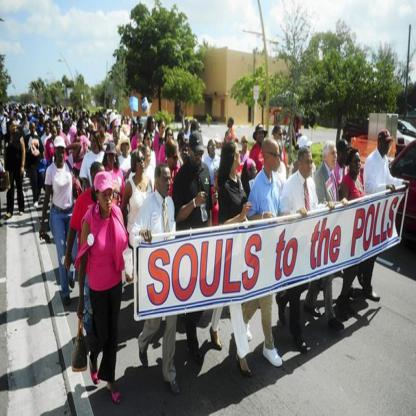face: (160, 168, 172, 196), (271, 144, 281, 172), (102, 190, 114, 211), (304, 153, 314, 174), (234, 143, 242, 168), (193, 146, 203, 165), (172, 146, 180, 169), (330, 145, 338, 167), (354, 150, 361, 174), (138, 153, 146, 173), (252, 164, 259, 182), (209, 143, 216, 157), (92, 133, 98, 149), (57, 147, 64, 160), (384, 140, 390, 155), (147, 135, 153, 149), (182, 147, 188, 161), (277, 129, 283, 143), (146, 148, 151, 164), (258, 130, 264, 142), (99, 123, 104, 137), (342, 149, 347, 163), (110, 153, 115, 166), (124, 143, 129, 155), (168, 132, 173, 144), (12, 122, 17, 134), (115, 128, 119, 142), (243, 140, 248, 151), (81, 122, 86, 133), (182, 136, 187, 146), (152, 119, 156, 131), (45, 125, 50, 134), (162, 125, 166, 135), (53, 129, 57, 138), (33, 125, 37, 134), (187, 120, 190, 130), (124, 118, 128, 125), (228, 120, 232, 127), (42, 117, 45, 123), (38, 113, 40, 118)
